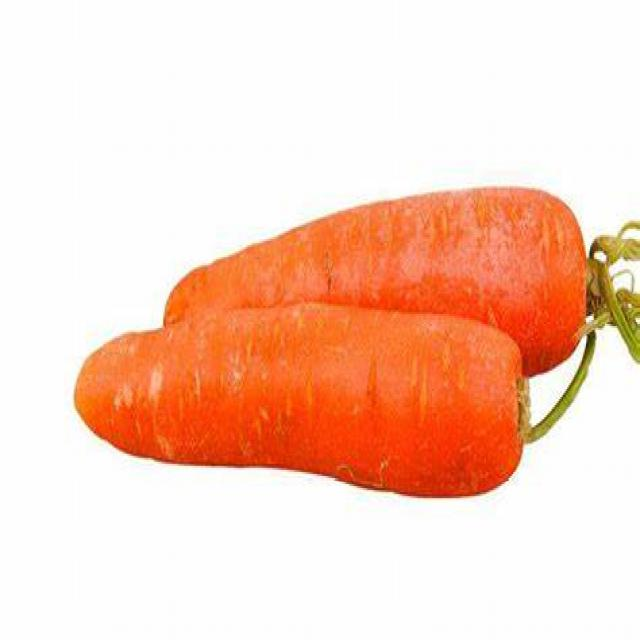Carrot: (71, 307, 528, 495), (162, 175, 592, 359)
